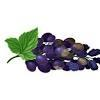Grape Rotten: (25, 32, 100, 73)
